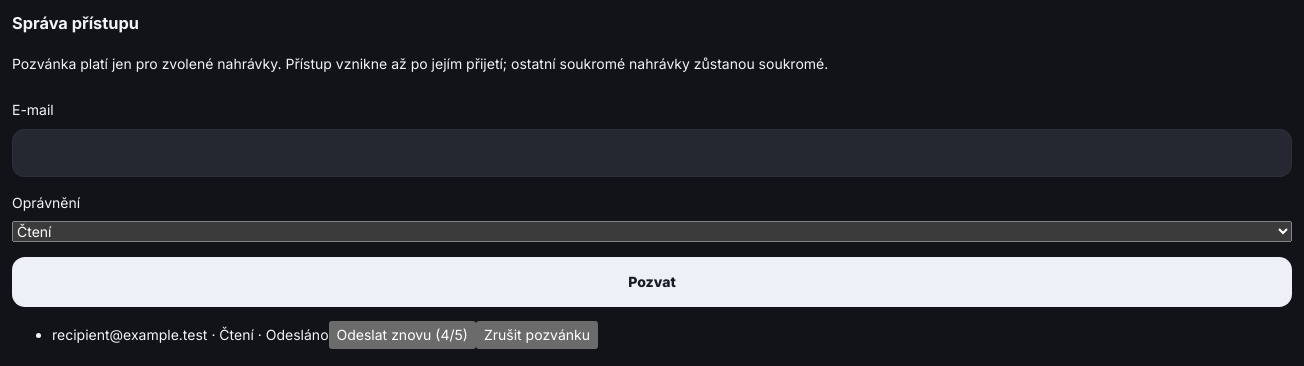
Test: manager outcomes stay truthful › describes changed=false as invitation cancellation, never active access removal
Click the button "Zrušit pozvánku": [537, 335] box x1=476 y1=321 x2=598 y2=349
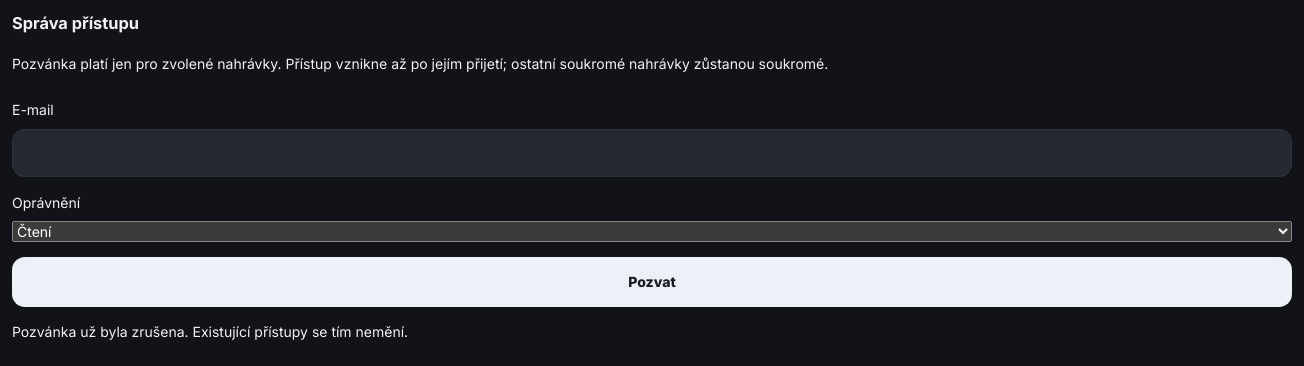
Now the text "Pozvánka už byla zrušena" is shown, box x1=12 y1=323 x2=408 y2=340
